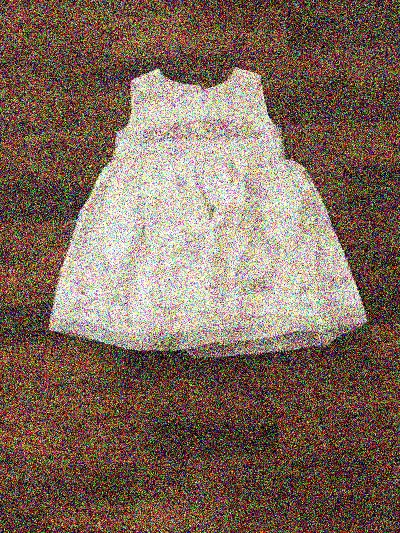Dress: (41, 58, 366, 401)
